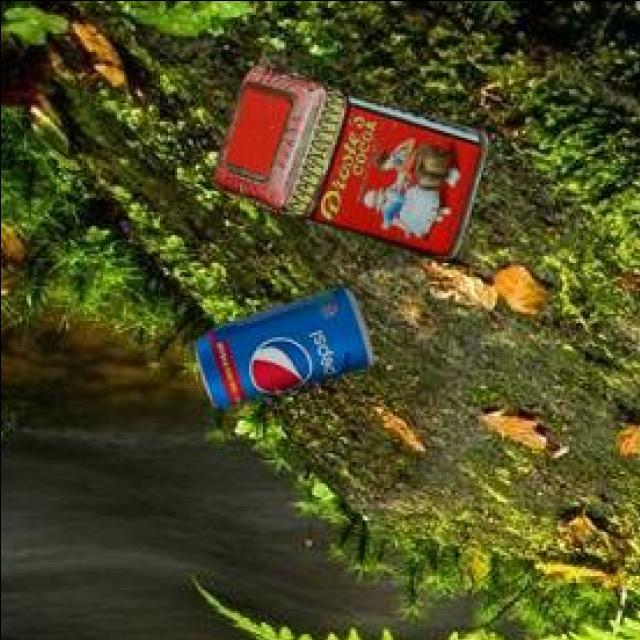logam: (217, 71, 490, 263), (199, 291, 374, 409)
